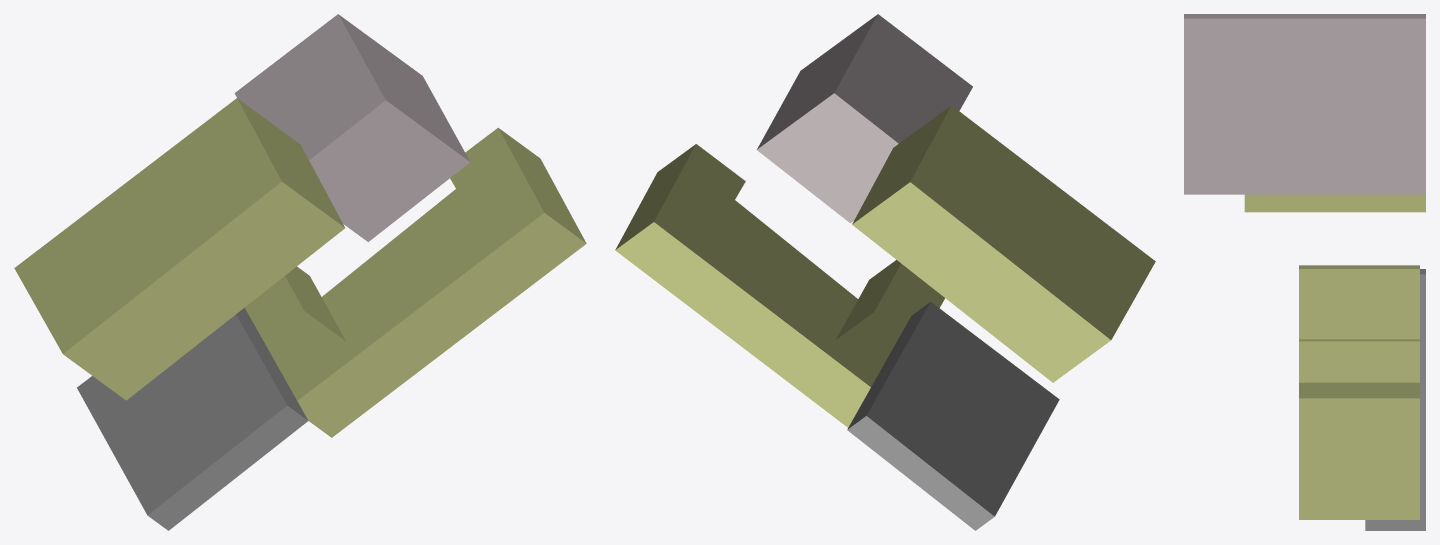
The picture shows the model from 3 angles, left to right: view 1: azimuth 30°, elevation 25°; view 2: azimuth 150°, elevation 25°; view 3: azimuth 270°, elevation 25°; orthographic projection. The views are drawn at different scales.
Parts seen in each view (by area): view 1: 0_1_0_2_0_0_2_3_3; view 2: 0_1_0_2_0_0_2_3_3; view 3: 0_1_0_2_0_0_2_3_3.
Part boxes in pixels (<box>): 0_1_0_2_0_0_2_3_3: <box>14,14,586,530</box>; 0_1_0_2_0_0_2_3_3: <box>615,14,1155,530</box>; 0_1_0_2_0_0_2_3_3: <box>1184,14,1425,530</box>.
Size of the model in its own units: 43.23 by 35.59 by 12.
